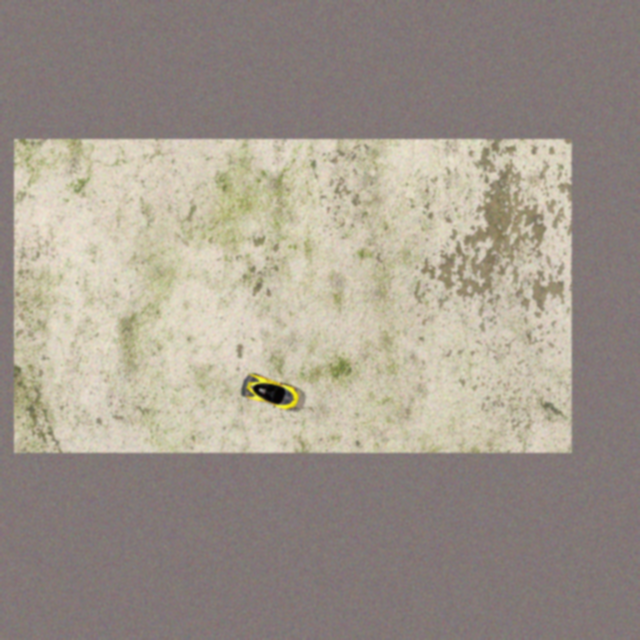car: (238, 370, 302, 415)
